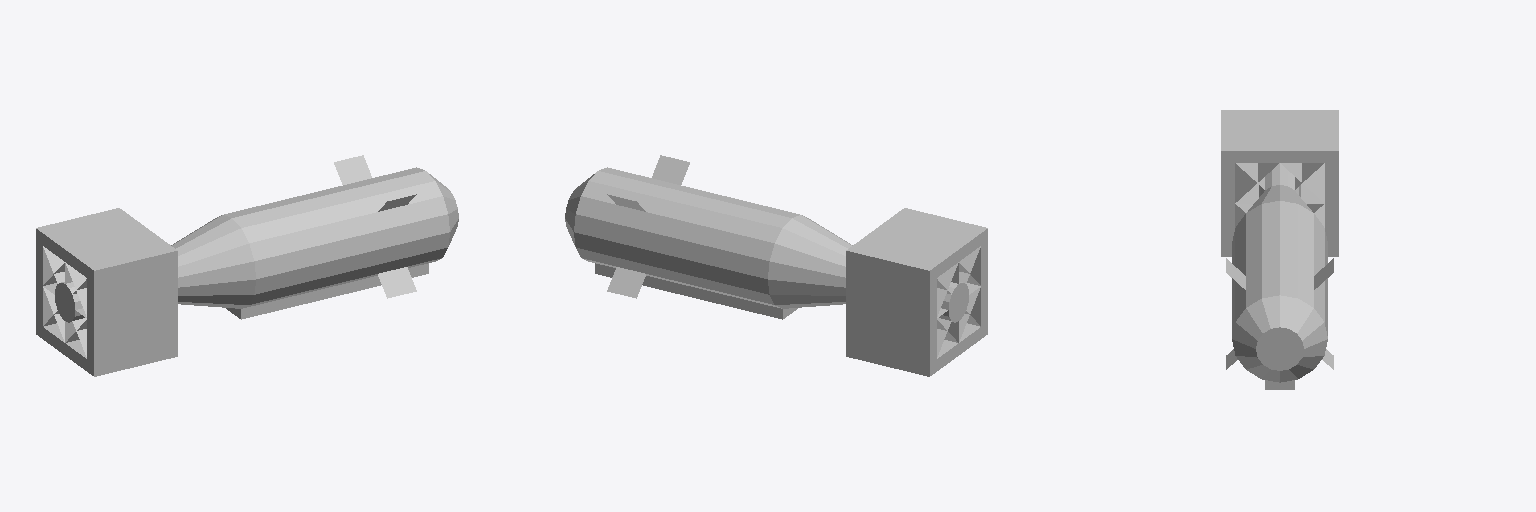
File: balebomb_test.obj
3 renders of one model, left to right at view 1: azimuth 30°, elevation 25°; view 2: azimuth 150°, elevation 25°; view 3: azimuth 270°, elevation 25°, orthographic.
Visible parts, largest first — view 1: Cylinder_Cylinder.002; view 2: Cylinder_Cylinder.002; view 3: Cylinder_Cylinder.002.
Boxes of the visible parts, x1=… form: Cylinder_Cylinder.002: x1=36, y1=155, x2=458, y2=376; Cylinder_Cylinder.002: x1=565, y1=155, x2=987, y2=376; Cylinder_Cylinder.002: x1=1221, y1=110, x2=1338, y2=389.
Size of the model in its own units: 3.2 by 0.85 by 0.85.